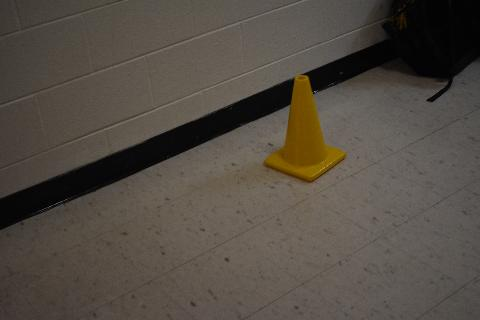cone: (264, 76, 346, 180)
